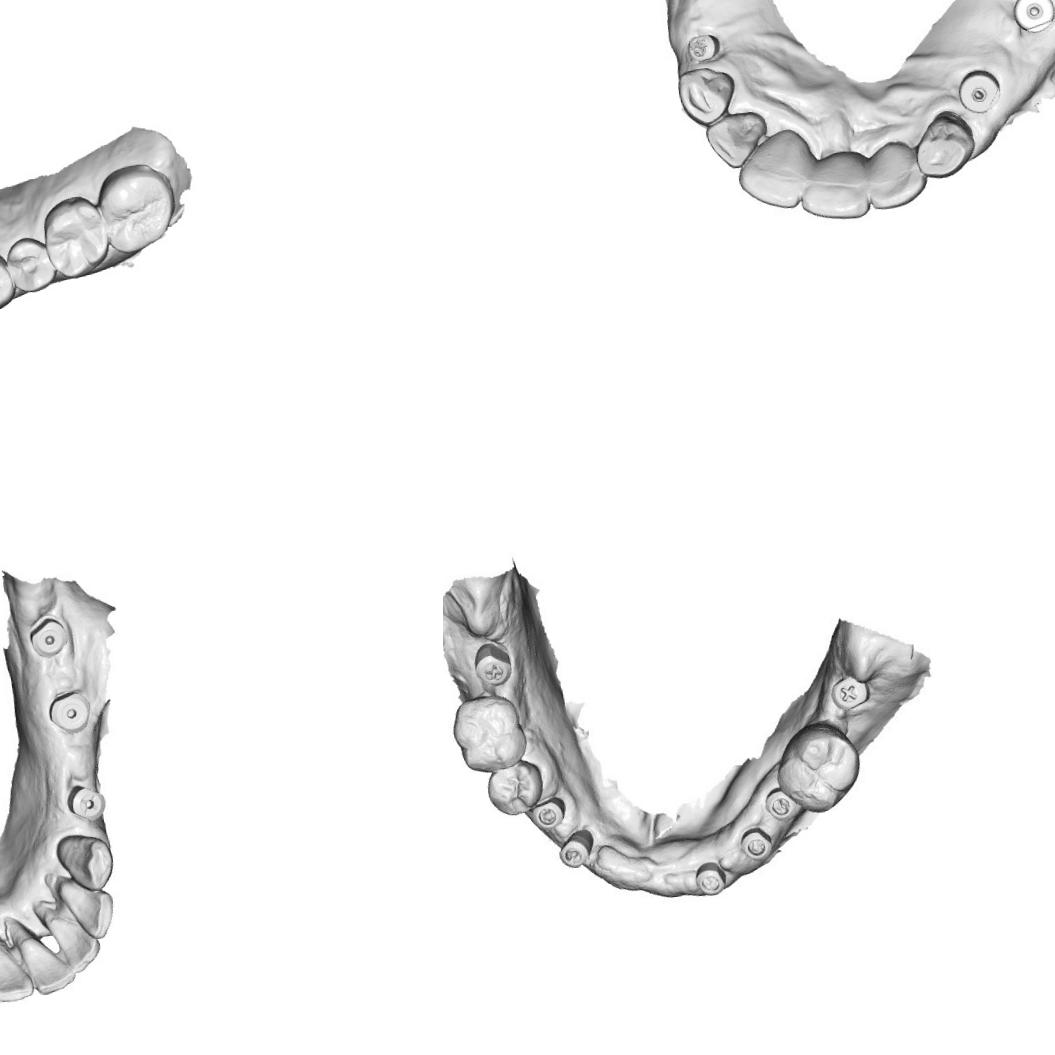canine: (912, 106, 978, 184), (671, 64, 740, 128), (55, 829, 118, 892)
implant: (952, 65, 1003, 116), (42, 689, 94, 734), (25, 613, 71, 659), (1010, 0, 1055, 37), (762, 787, 803, 827), (680, 30, 720, 67), (556, 832, 594, 868), (694, 861, 729, 897), (742, 828, 770, 860), (535, 800, 564, 828)
implant_plus: (470, 638, 516, 693), (62, 779, 110, 824), (830, 674, 872, 714)
incisor: (728, 125, 818, 217), (794, 150, 876, 228), (862, 137, 929, 213), (41, 902, 105, 975), (15, 922, 78, 996), (56, 875, 120, 946), (702, 106, 770, 170), (0, 924, 31, 1005)
molar: (774, 718, 864, 818), (94, 158, 181, 258), (37, 190, 114, 284), (450, 695, 530, 780)
premolar: (480, 757, 546, 821), (0, 232, 60, 298), (0, 246, 18, 316)
